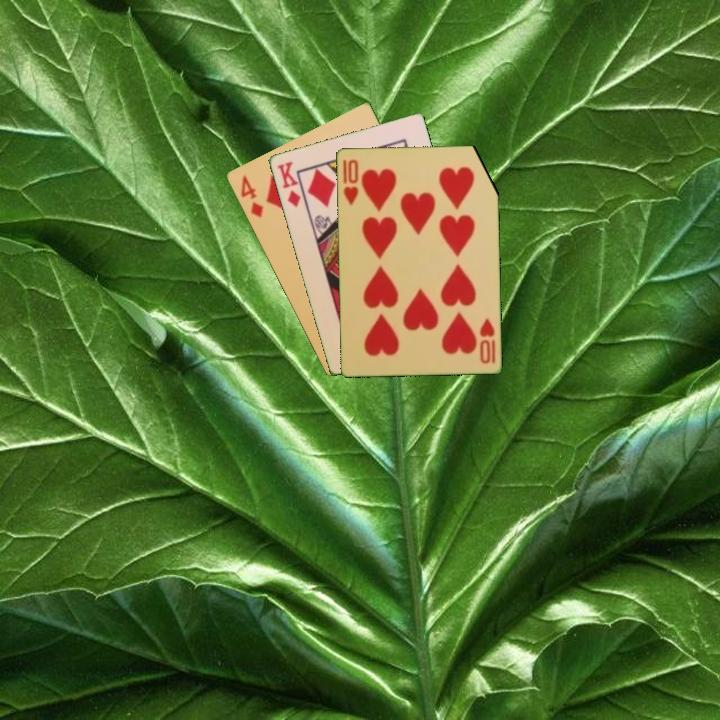10h: (339, 156, 361, 207), (476, 315, 498, 366)
4d: (237, 172, 266, 221)
Kd: (273, 158, 303, 210)
